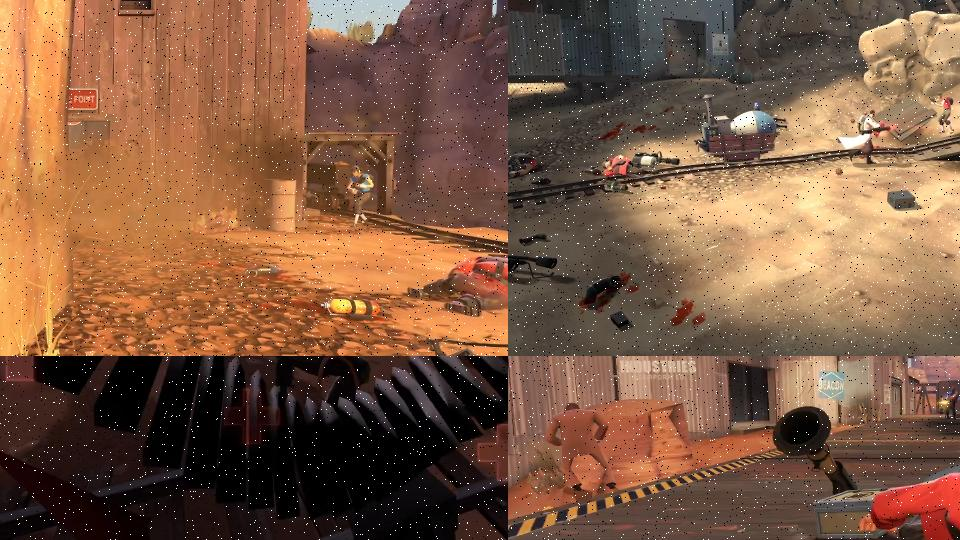Enemy: (858, 453, 960, 540), (545, 402, 617, 492), (408, 254, 508, 316), (254, 356, 380, 403), (837, 109, 891, 165), (347, 166, 374, 228), (601, 154, 659, 179), (930, 91, 957, 134), (508, 148, 540, 182), (940, 386, 960, 420)
